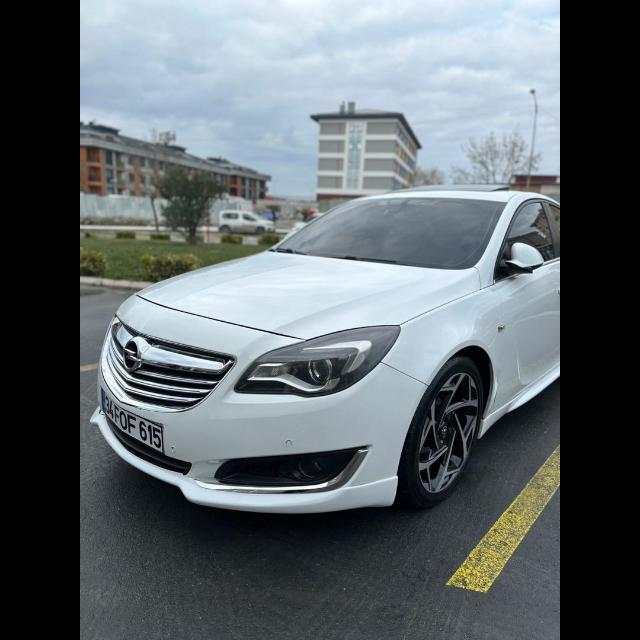Plaka: (104, 392, 164, 451)
